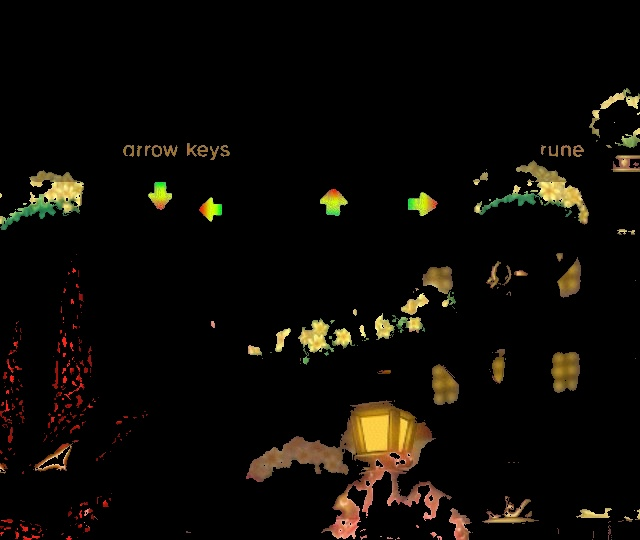down: (139, 176, 181, 218)
left: (192, 192, 232, 228)
right: (401, 187, 446, 223)
up: (314, 183, 353, 222)
